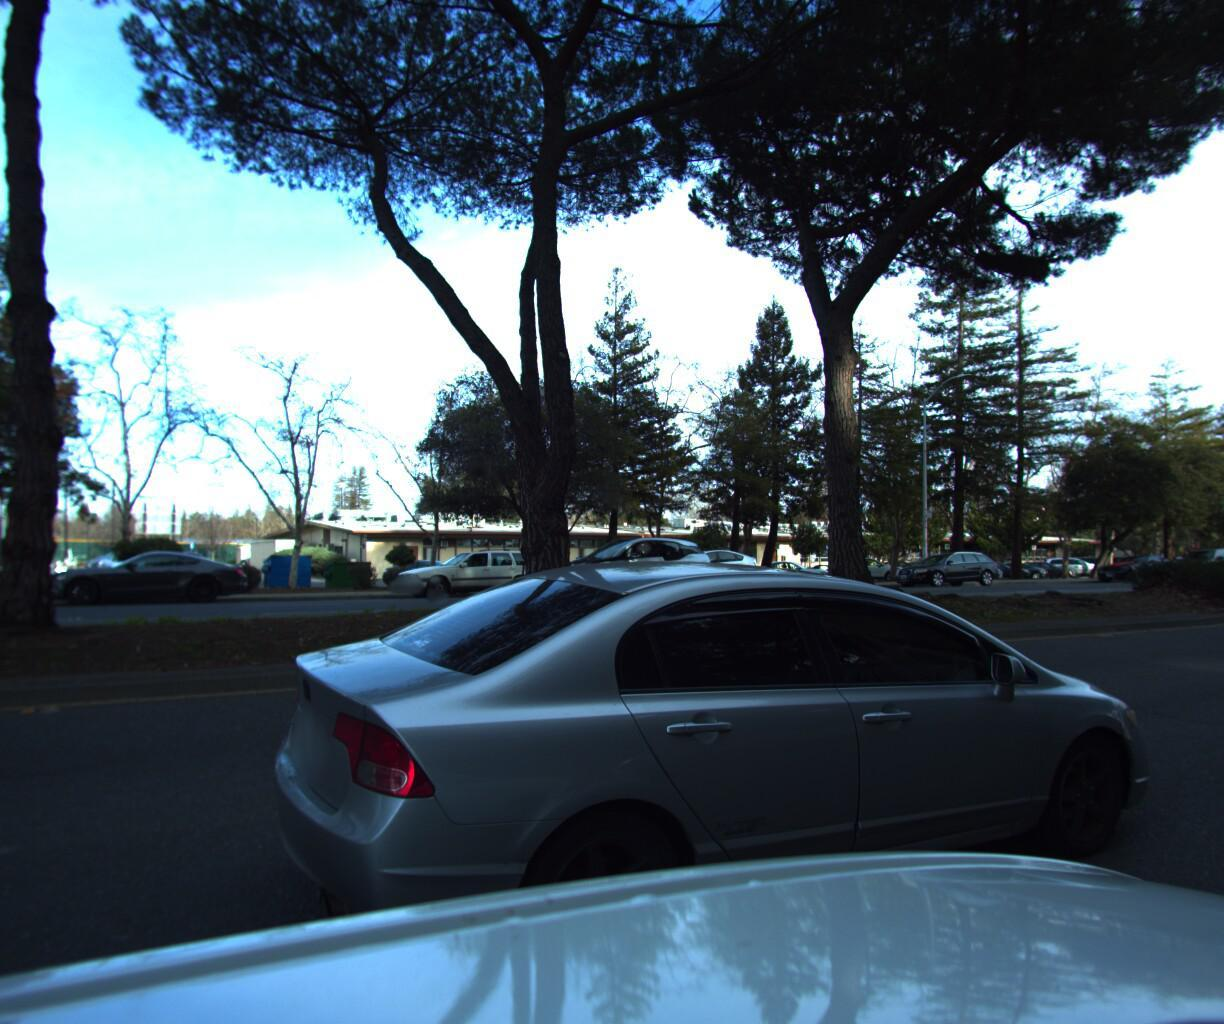car: (243, 550, 1184, 1024), (37, 550, 254, 613), (547, 536, 730, 605), (383, 544, 553, 598), (633, 545, 764, 594), (884, 545, 1002, 586), (1086, 549, 1181, 581)
